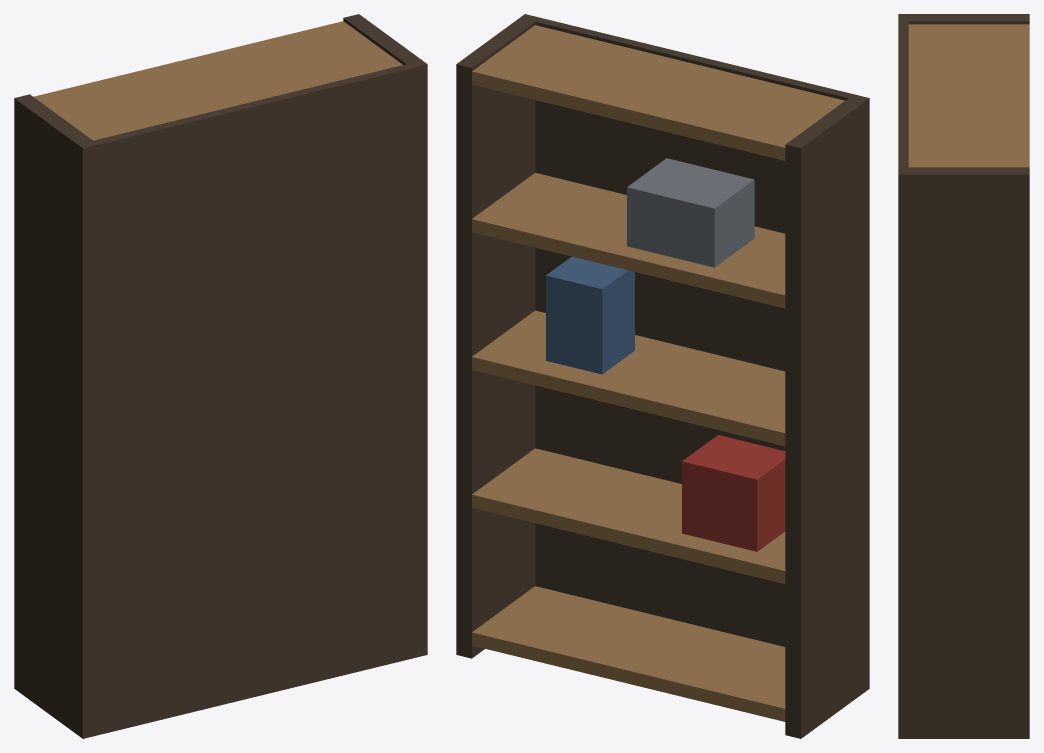
Rendered from int_shelf.glb.
3 renders of one model, left to right at view 1: azimuth 30°, elevation 25°; view 2: azimuth 150°, elevation 25°; view 3: azimuth 270°, elevation 25°, orthographic. The views are drawn at different scales.
Parts seen in each view (by area): view 1: int_shelf; view 2: int_shelf; view 3: int_shelf.
Part boxes in pixels (<box>): int_shelf: <box>14,14,427,738</box>; int_shelf: <box>456,14,869,738</box>; int_shelf: <box>898,14,1029,738</box>.
Size of the model in its own units: 1.1 by 1.8 by 0.38.
1 material, 1 textured.
